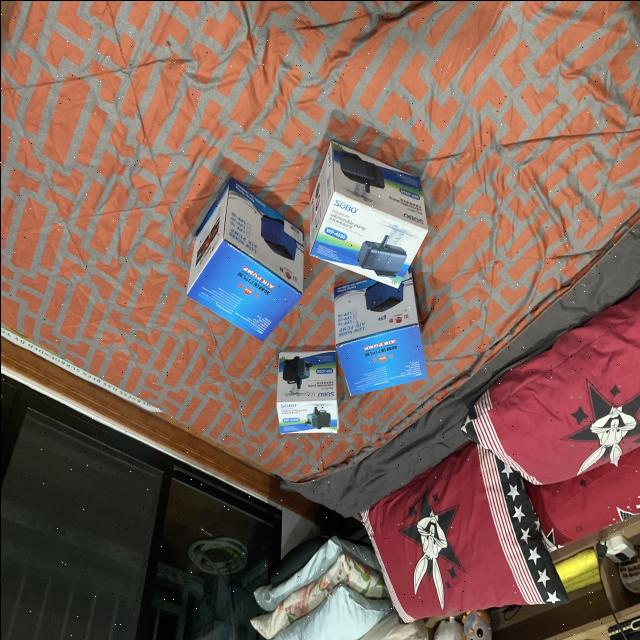SOBO_WP_4200: (300, 129, 436, 292), (270, 339, 344, 448)
YAMANO_LPP_20: (175, 167, 314, 348), (327, 260, 432, 400)
